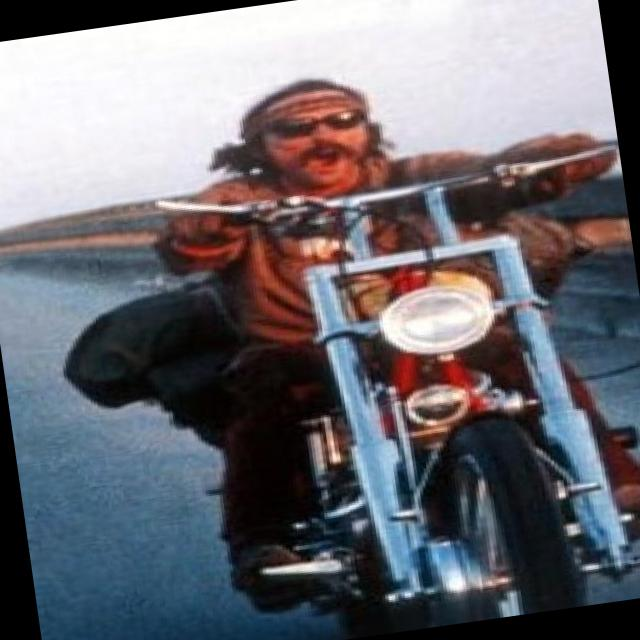without helmet: (207, 70, 384, 194)
